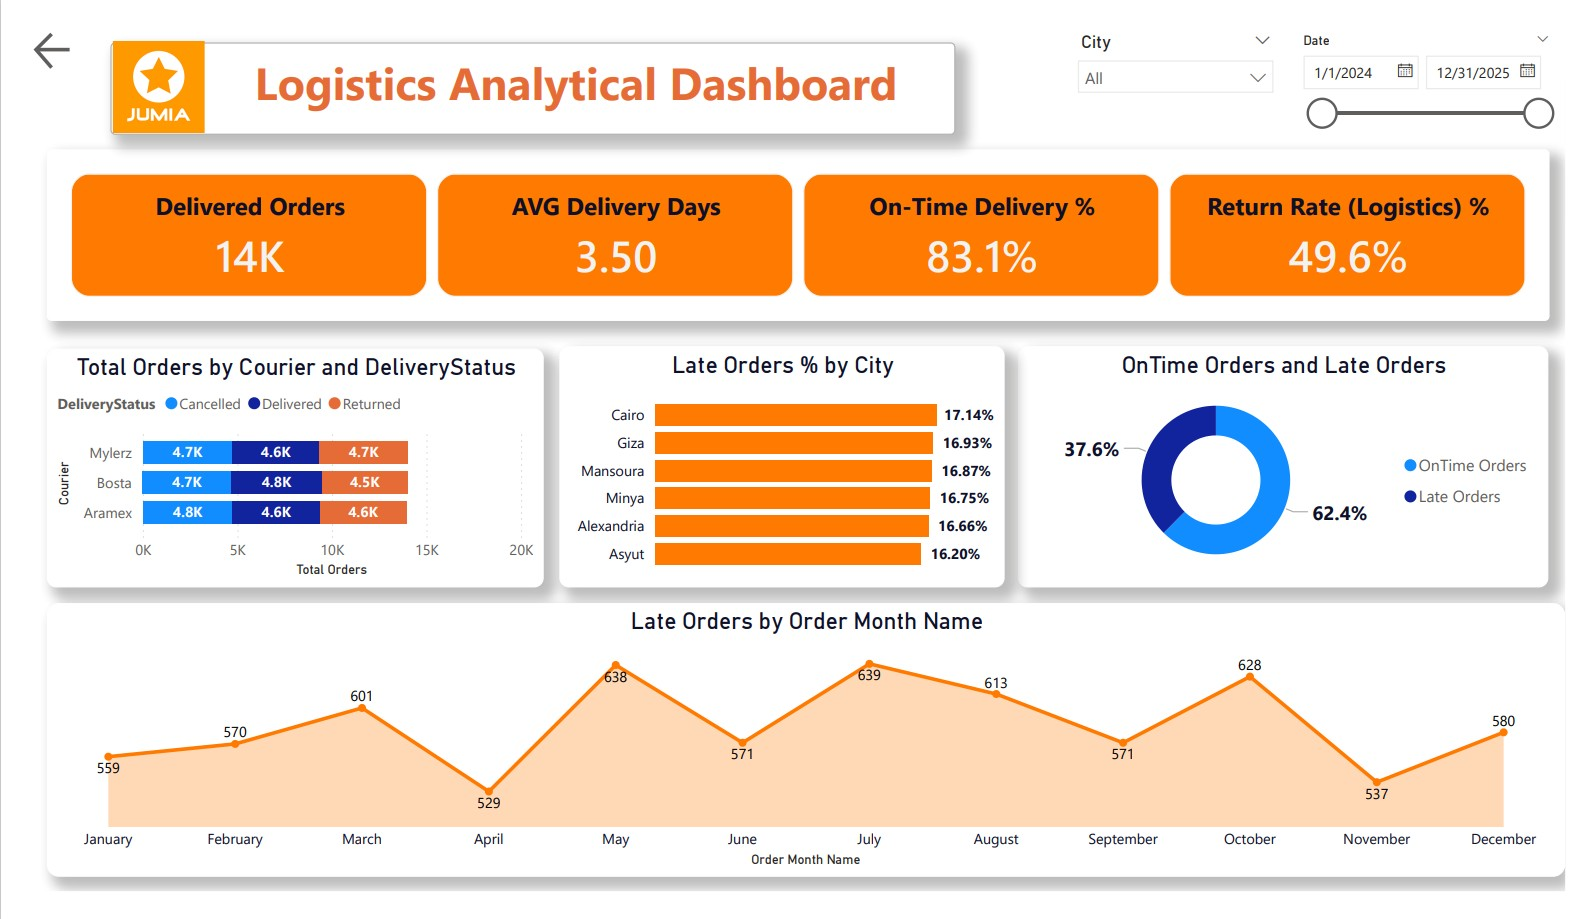

The dashboard page shown, as its layout file describes it:
{"tool":"powerbi","page":{"name":"Logistics","canvas":[1280,720],"ordinal":2},"visuals":[{"type":"actionButton","box":[0,0,61.7,40],"z":0},{"type":"cardVisual","fields":{"Data":["Fact_Logistics.Delivered Orders","Fact_Logistics.AVG Delivery Days","Fact_Logistics.On-Time Delivery %","Fact_Logistics.Return Rate (Logistics) %"]},"box":[15,101.7,1251.7,143.3],"z":1000},{"type":"barChart","fields":{"Y":["Fact_Orders.Total Orders"],"Series":["Fact_Logistics.DeliveryStatus"],"Category":["Fact_Logistics.Courier"]},"box":[15.1,268.3,413.9,198.4],"z":2000},{"type":"donutChart","fields":{"Y":["Fact_Logistics.On-Time Orders","Fact_Logistics.Late Orders"]},"box":[823.9,266.5,442.2,200.3],"z":3000},{"type":"barChart","fields":{"Y":["Fact_Logistics.Late Orders %"],"Category":["Fact_Orders.City"]},"box":[442.2,266.5,370.4,200.3],"z":4000},{"type":"lineChart","fields":{"Y":["Fact_Logistics.Late Orders"],"Category":["Fact_Orders.Order Month Name"]},"box":[15,480,1265,228.3],"z":5000},{"type":"slicer","fields":{"Values":["Dim_Date.Date"]},"box":[1048.8,0,230.6,88.8],"z":6000},{"type":"slicer","fields":{"Values":["Fact_Orders.City"]},"box":[863.6,0,183.3,58.6],"z":7000},{"type":"group","id":"g1","title":"Group 1","box":[60,10,711.7,80],"z":8000},{"type":"textbox","box":[68.3,13.3,703.3,76.7],"z":14000,"group":"g1"},{"type":"image","box":[60,10,95.7,80],"z":14500,"group":"g1"}]}

Visuals, with their boxes in screenshot pixels (x1, y1, x2, y2), scaled from the page's 1280x720 canvas onto the 1590x919 screenshot:
actionButton: x1=0, y1=0, x2=77, y2=51
cardVisual - Fact_Logistics.Delivered Orders x Fact_Logistics.AVG Delivery Days: x1=19, y1=130, x2=1573, y2=313
barChart - Fact_Orders.Total Orders x Fact_Logistics.DeliveryStatus: x1=19, y1=342, x2=533, y2=596
donutChart - Fact_Logistics.On-Time Orders x Fact_Logistics.Late Orders: x1=1023, y1=340, x2=1573, y2=596
barChart - Fact_Logistics.Late Orders % x Fact_Orders.City: x1=549, y1=340, x2=1009, y2=596
lineChart - Fact_Logistics.Late Orders x Fact_Orders.Order Month Name: x1=19, y1=613, x2=1589, y2=904
slicer - Dim_Date.Date: x1=1303, y1=0, x2=1589, y2=113
slicer - Fact_Orders.City: x1=1073, y1=0, x2=1300, y2=75
"Group 1" group: x1=75, y1=13, x2=959, y2=115
textbox: x1=85, y1=17, x2=958, y2=115
image: x1=75, y1=13, x2=193, y2=115
